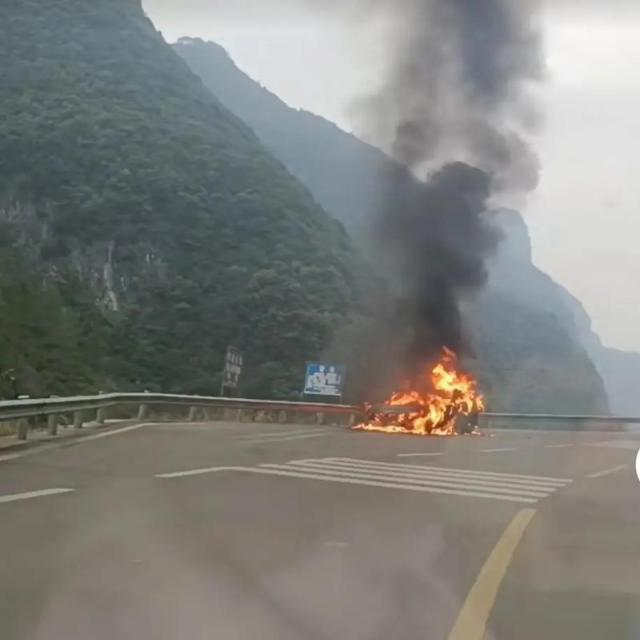Fire: (356, 352, 484, 434)
Smoke: (354, 1, 552, 347)
